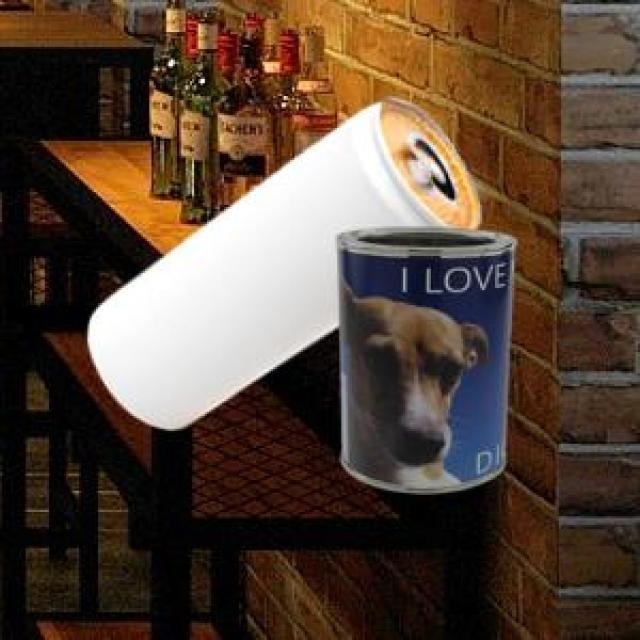Can: (84, 95, 477, 426), (334, 225, 513, 490)
